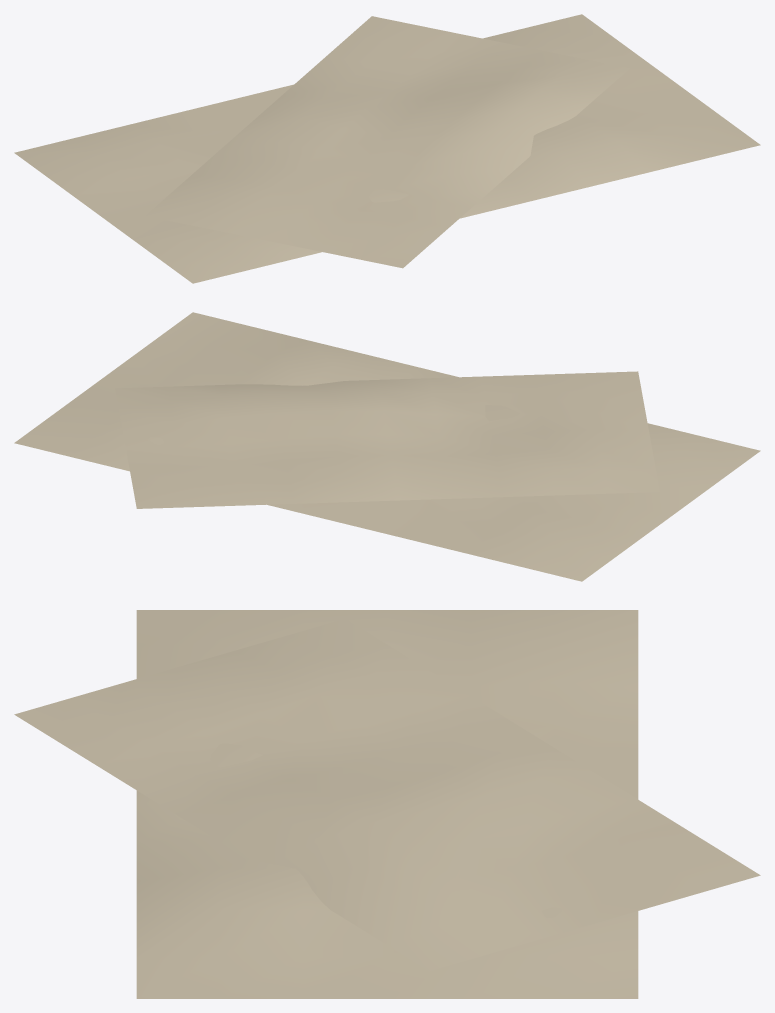
File: wrack.glb
3 views of the same model, one above another, from view 1: azimuth 30°, elevation 25°; view 2: azimuth 150°, elevation 25°; view 3: azimuth 270°, elevation 25° (orthographic). The views are drawn at different scales.
Visible parts, largest first — view 1: wrack; view 2: wrack; view 3: wrack.
Part boxes in pixels (box(x1,y1,x2,y2)): wrack: box(14, 14, 760, 283); wrack: box(14, 312, 760, 581); wrack: box(14, 610, 760, 998).
Size of the model in its own units: 2.2 by 0.0634 by 1.79.
